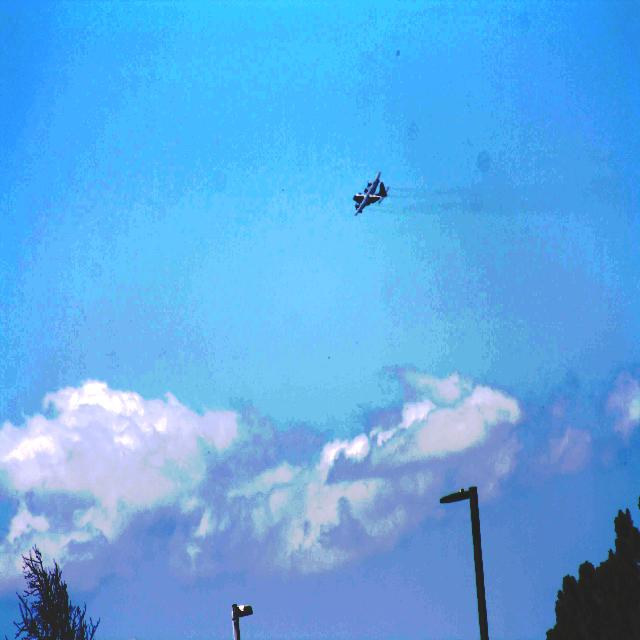Aircraft: (348, 162, 392, 222)
